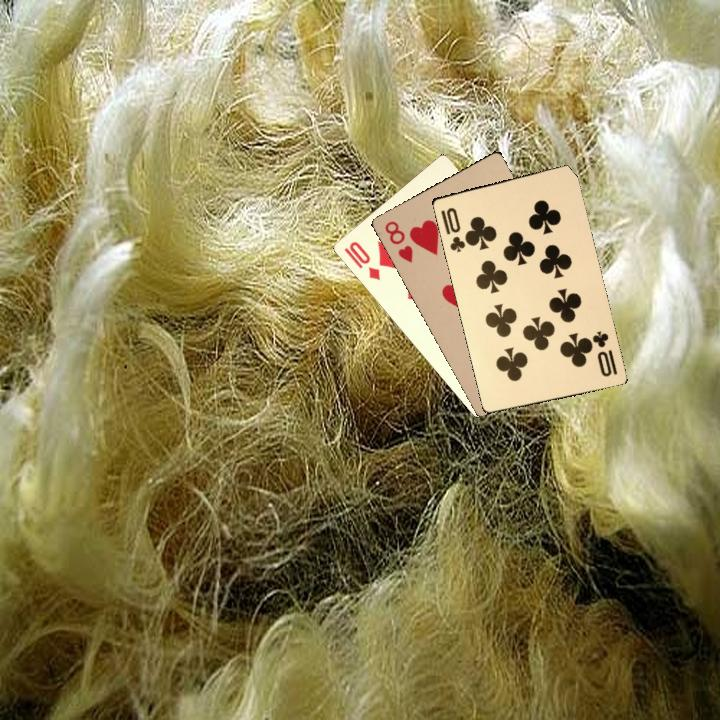10c: (437, 203, 472, 255), (586, 327, 620, 379)
10d: (340, 237, 383, 283)
8h: (381, 217, 416, 265)
